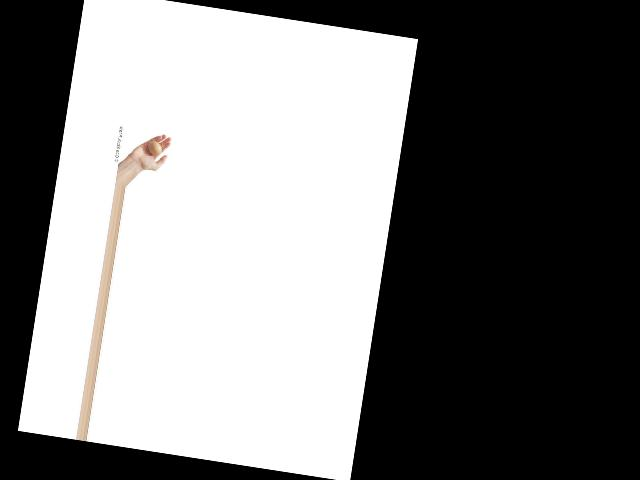egg: (147, 139, 162, 155)
